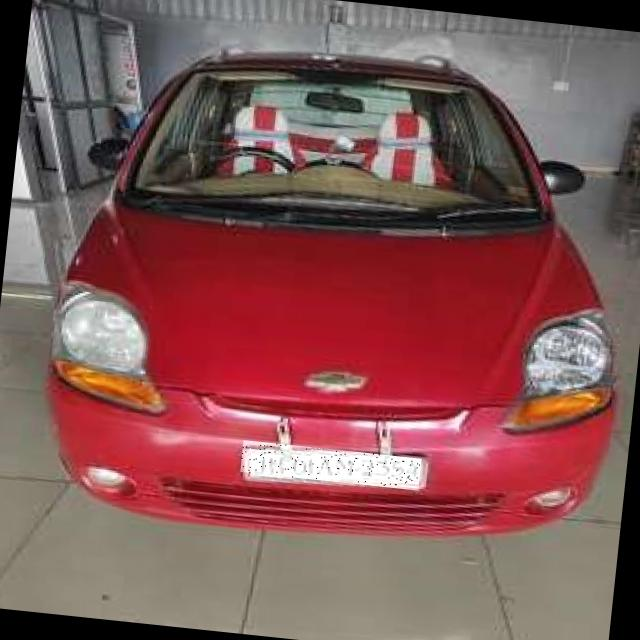Plate: (241, 441, 422, 492)
